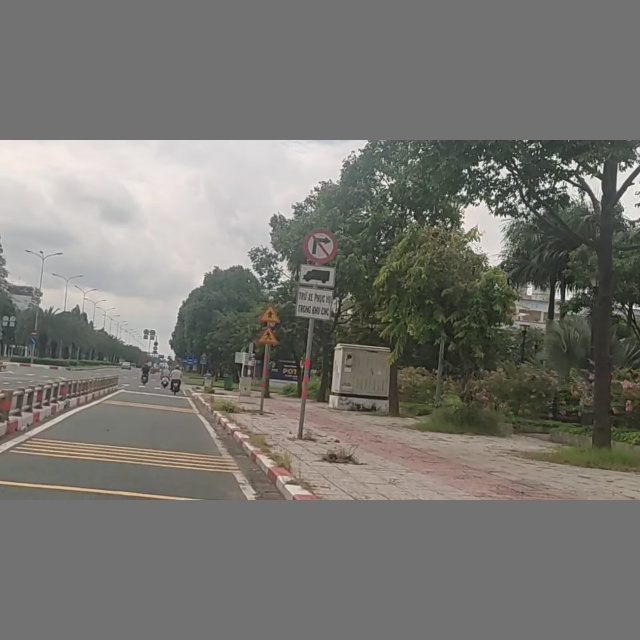P.123b: (301, 228, 339, 263)
S.505a*Xe tai: (295, 263, 335, 318)
W.207: (256, 303, 281, 322)
W.224: (257, 325, 279, 344)
